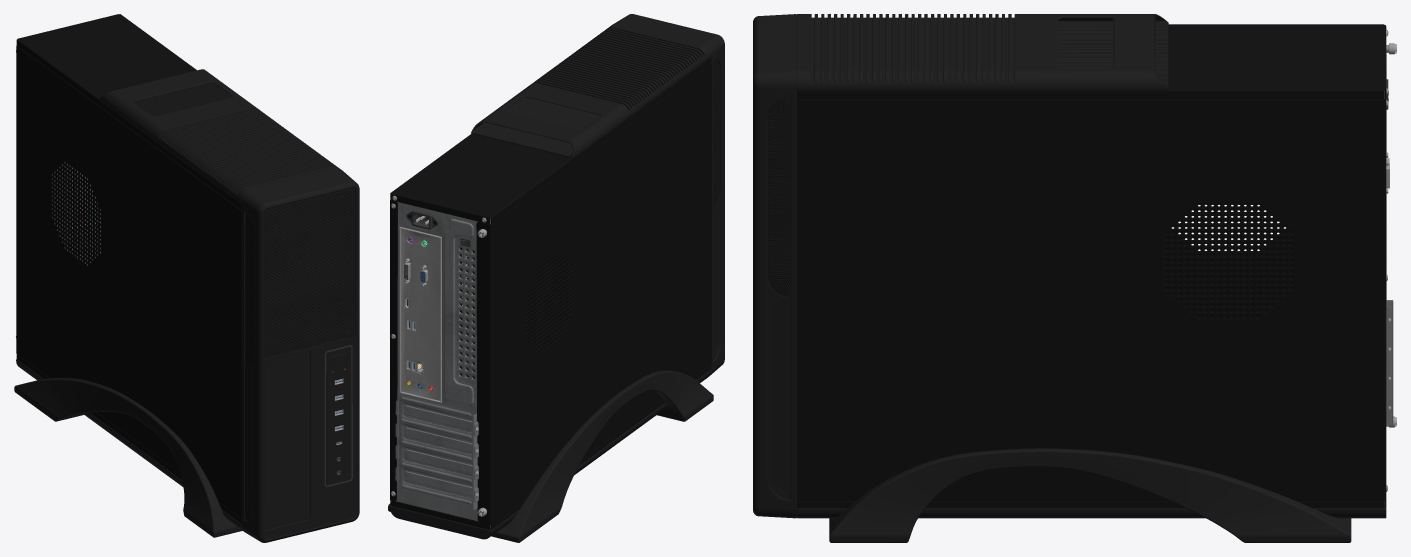
Rendered from computer_desktop_tower_a01.glb.
The picture shows the model from 3 angles, left to right: view 1: azimuth 30°, elevation 25°; view 2: azimuth 150°, elevation 25°; view 3: azimuth 270°, elevation 25°; orthographic projection. The views are drawn at different scales.
Visible parts, largest first — view 1: sm_computer_desktop_a01_mesh_00; view 2: sm_computer_desktop_a01_mesh_00; view 3: sm_computer_desktop_a01_mesh_00.
Boxes of the visible parts, left/top/right/bottom form: sm_computer_desktop_a01_mesh_00: left=14, top=14, right=359, bottom=542; sm_computer_desktop_a01_mesh_00: left=388, top=14, right=724, bottom=542; sm_computer_desktop_a01_mesh_00: left=753, top=14, right=1396, bottom=542.
Size of the model in its own units: 0.197 by 0.4895 by 0.6235.
Materials: 14 (7 with a texture image).
